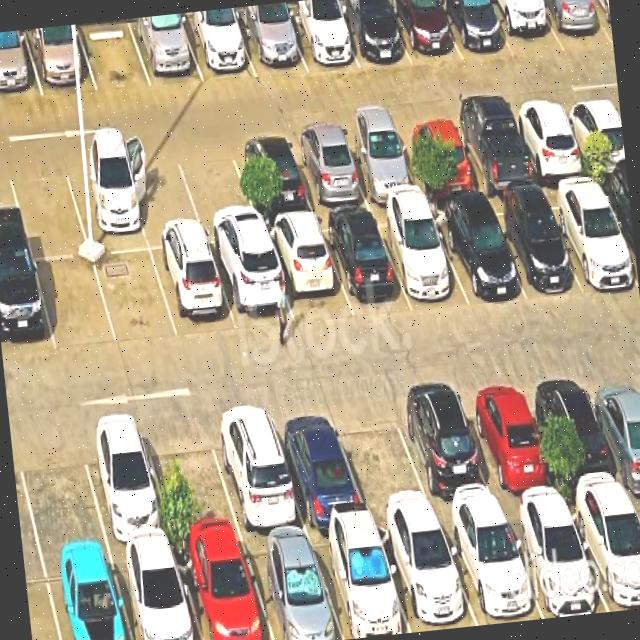empty: (330, 395, 435, 519), (141, 415, 242, 543), (12, 424, 107, 557), (174, 141, 262, 244), (122, 150, 206, 249), (6, 159, 89, 258), (93, 250, 178, 345), (34, 256, 117, 352), (77, 19, 151, 90)
occupied: (389, 385, 500, 517), (456, 378, 561, 508), (205, 402, 306, 536), (530, 371, 628, 500), (76, 418, 173, 548), (268, 402, 368, 528), (502, 504, 608, 618), (439, 510, 543, 625), (308, 524, 410, 639), (375, 520, 477, 632), (240, 533, 343, 640), (541, 183, 638, 290), (428, 202, 526, 305), (482, 196, 580, 298), (174, 539, 272, 640), (262, 218, 353, 326), (318, 212, 411, 316), (373, 208, 469, 307), (566, 493, 640, 611), (110, 545, 201, 640), (62, 155, 149, 254), (151, 245, 237, 338), (43, 551, 131, 640), (209, 240, 295, 331), (449, 111, 538, 195), (229, 136, 314, 221), (583, 367, 640, 492), (287, 130, 370, 212), (338, 125, 422, 204), (394, 118, 479, 195), (509, 103, 590, 183), (0, 256, 55, 358), (128, 15, 203, 86), (179, 13, 256, 82), (333, 0, 411, 68), (23, 24, 96, 96), (282, 4, 359, 71), (560, 97, 626, 175), (387, 0, 462, 65), (235, 9, 306, 76), (487, 0, 564, 58), (439, 0, 513, 60), (537, 0, 613, 51), (597, 180, 637, 274), (0, 29, 42, 100), (590, 0, 613, 43)
